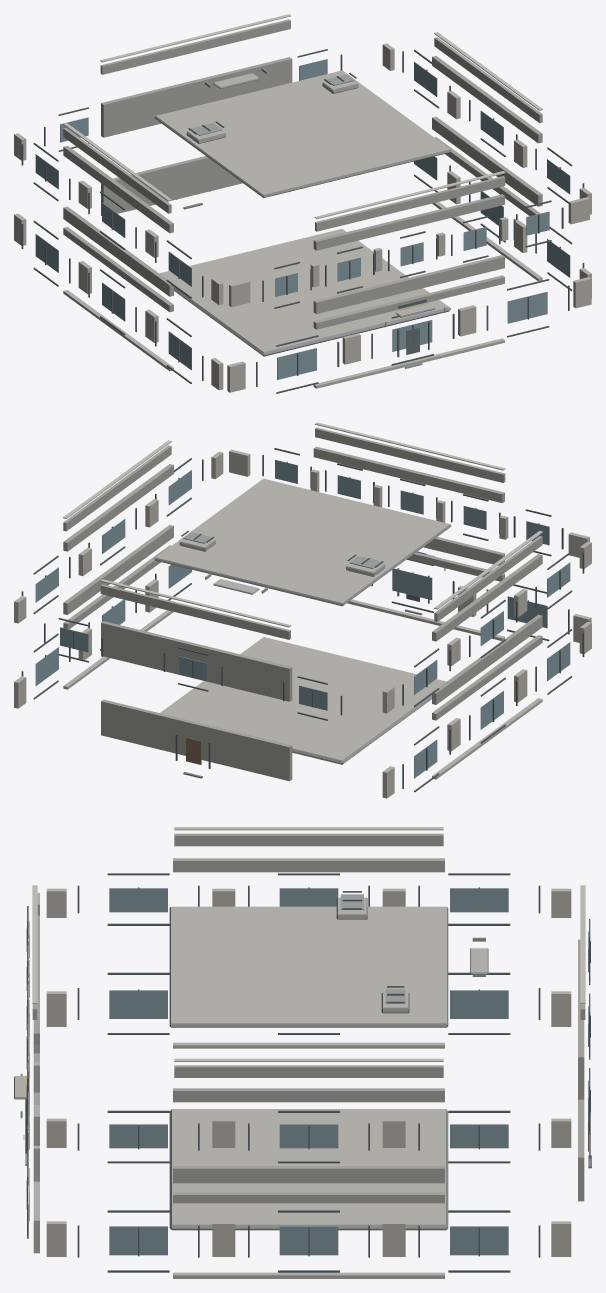
File: 0-20261016-1900-ev065-r12-town-lotlarge.fbx
3 views of the same model, one above another, from view 1: azimuth 30°, elevation 25°; view 2: azimuth 150°, elevation 25°; view 3: azimuth 270°, elevation 25° (orthographic). The views are drawn at different scales.
Visible parts, largest first — view 1: SW_Town_LotLarge; view 2: SW_Town_LotLarge; view 3: SW_Town_LotLarge.
Boxes of the visible parts, x1,y1,x2,y2 form: SW_Town_LotLarge: [14, 14, 591, 393]; SW_Town_LotLarge: [14, 422, 591, 798]; SW_Town_LotLarge: [14, 827, 591, 1278].
Size of the model in its own units: 1823 by 814 by 1866.
